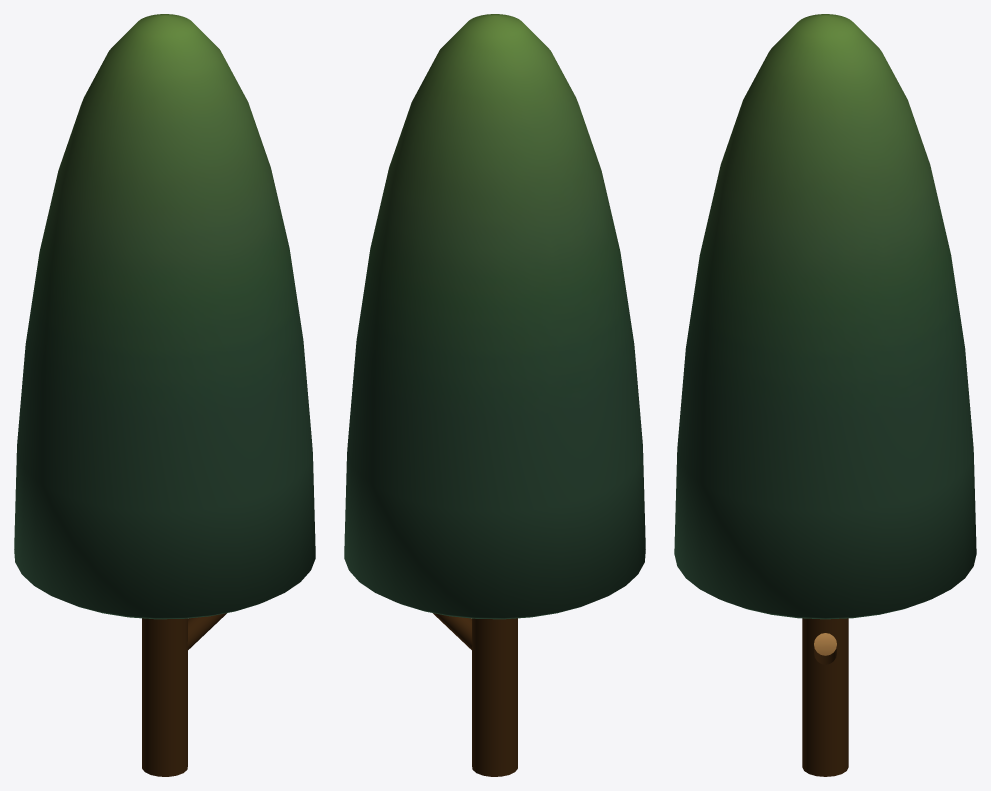
File: RoundTree.fbx
3 renders of one model, left to right at view 1: azimuth 30°, elevation 25°; view 2: azimuth 150°, elevation 25°; view 3: azimuth 270°, elevation 25°, orthographic.
Visible parts, largest first — view 1: Tree05; view 2: Tree05; view 3: Tree05.
Part boxes in pixels (left/top/right/bottom): Tree05: left=14, top=14, right=315, bottom=776; Tree05: left=344, top=14, right=645, bottom=776; Tree05: left=674, top=14, right=976, bottom=776.
Bounding box in the file's own units: 0.3907 × 1.07 × 0.3907.
